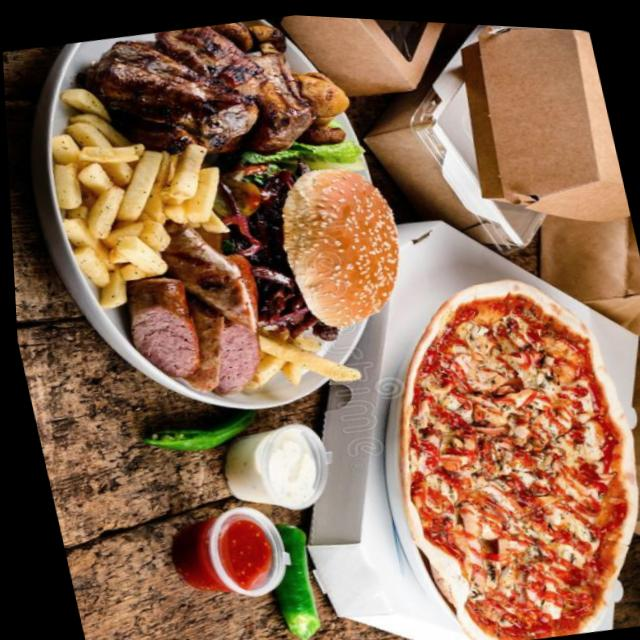burger: (200, 150, 416, 355)
pizza: (351, 249, 640, 640)
